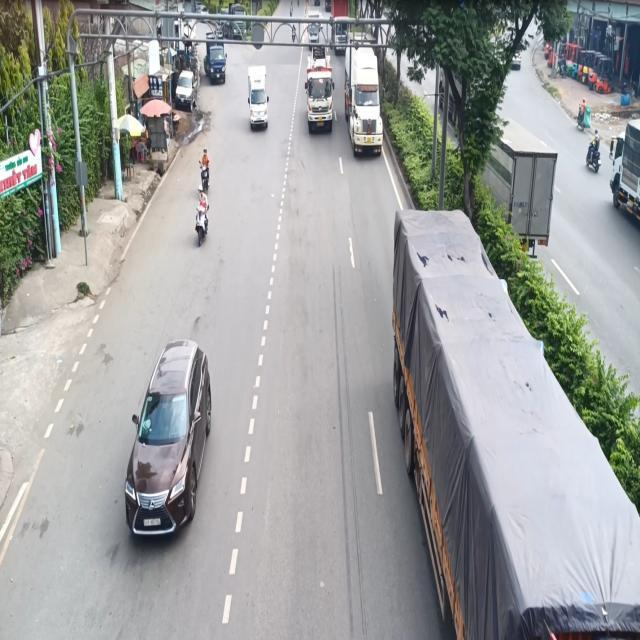car: (123, 338, 212, 538)
motorcycle: (194, 206, 208, 246), (585, 142, 601, 172)
person: (198, 148, 209, 189)
truck: (381, 208, 640, 640), (432, 61, 552, 259), (342, 39, 392, 169), (608, 115, 639, 225), (302, 50, 337, 134), (244, 62, 275, 132), (203, 30, 228, 89)
